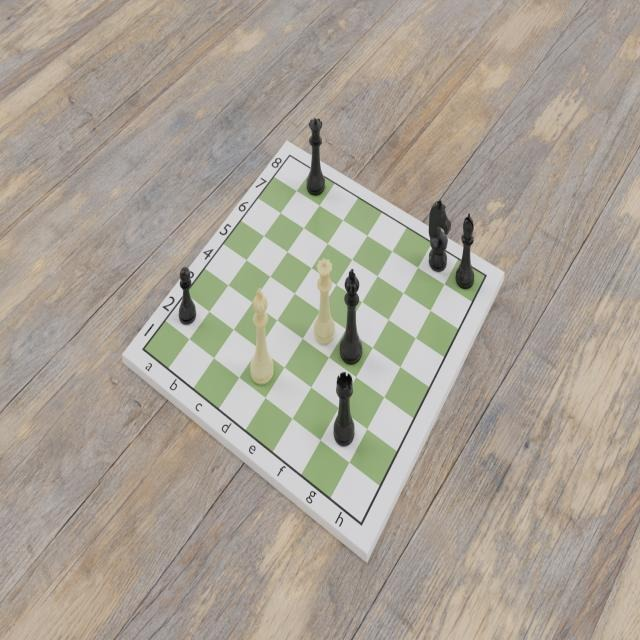black-bishop: (455, 211, 477, 292)
black-king: (339, 268, 365, 368)
black-knight: (426, 196, 450, 276)
black-pawn: (178, 264, 198, 325)
black-queen: (304, 117, 325, 199)
black-rook: (333, 368, 357, 448)
white-king: (249, 287, 275, 389)
white-queen: (312, 253, 336, 346)
